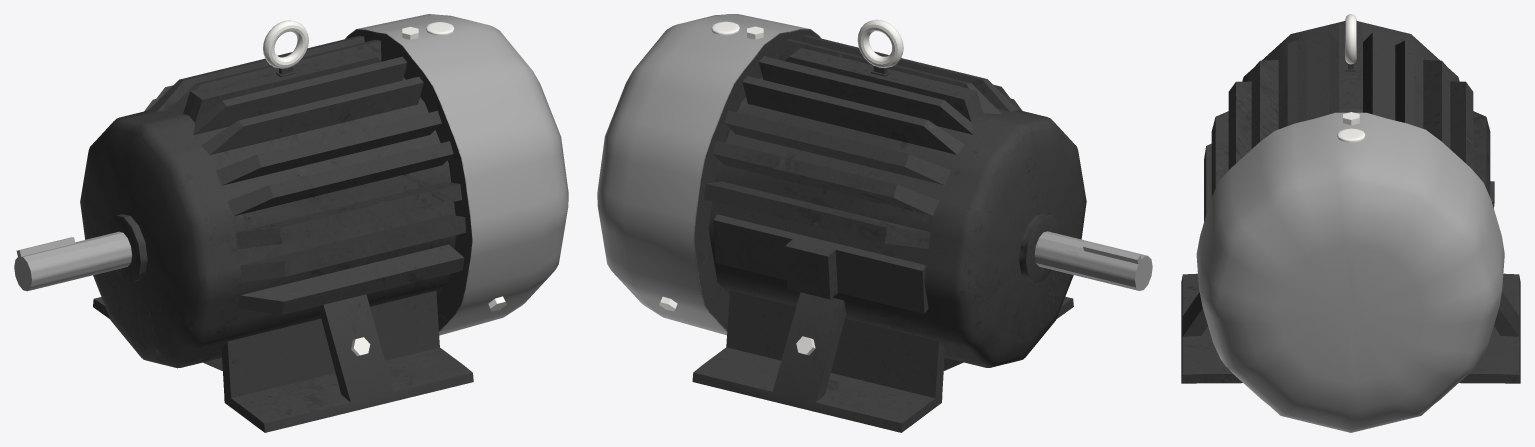
File: Pump@Motor.fbx
3 views of the same model, side by side, from view 1: azimuth 30°, elevation 25°; view 2: azimuth 150°, elevation 25°; view 3: azimuth 270°, elevation 25° (orthographic).
Visible parts, largest first — view 1: ElectricMotor.001; view 2: ElectricMotor.001; view 3: ElectricMotor.001.
Boxes of the visible parts, box(x1,y1,x2,y2) form: ElectricMotor.001: box(14, 14, 568, 432); ElectricMotor.001: box(597, 14, 1152, 432); ElectricMotor.001: box(1181, 14, 1520, 432).
Size of the model in its own units: 233 by 150 by 140.
